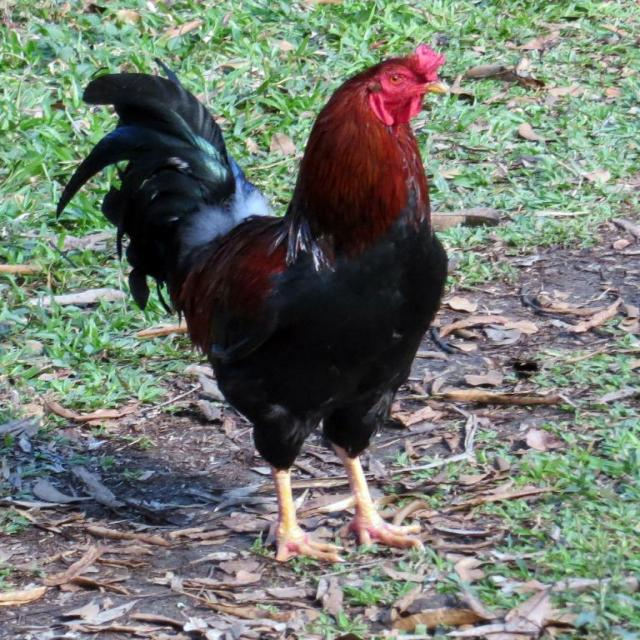Chicken: (45, 29, 469, 580)
